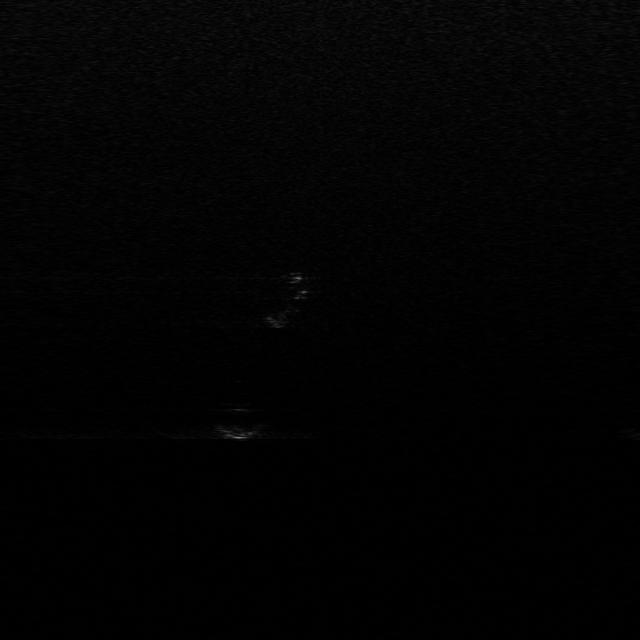ball: (206, 397, 268, 440)
tyre: (267, 270, 312, 328)
